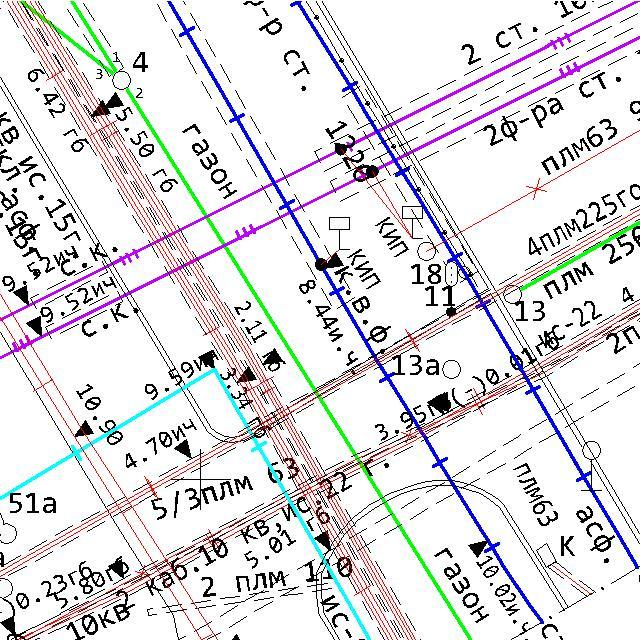mark: (426, 391, 449, 414), (11, 284, 31, 308), (313, 528, 333, 552), (172, 438, 193, 460), (468, 538, 491, 558), (90, 98, 112, 118), (261, 347, 284, 366), (25, 315, 43, 339), (235, 366, 258, 384), (323, 251, 345, 269), (198, 349, 216, 371), (73, 419, 95, 437), (108, 558, 126, 580), (104, 92, 125, 110)
sing: (328, 216, 352, 252), (400, 205, 424, 240)
well: (110, 70, 132, 92), (416, 240, 437, 261), (502, 284, 523, 305), (442, 359, 462, 380)
